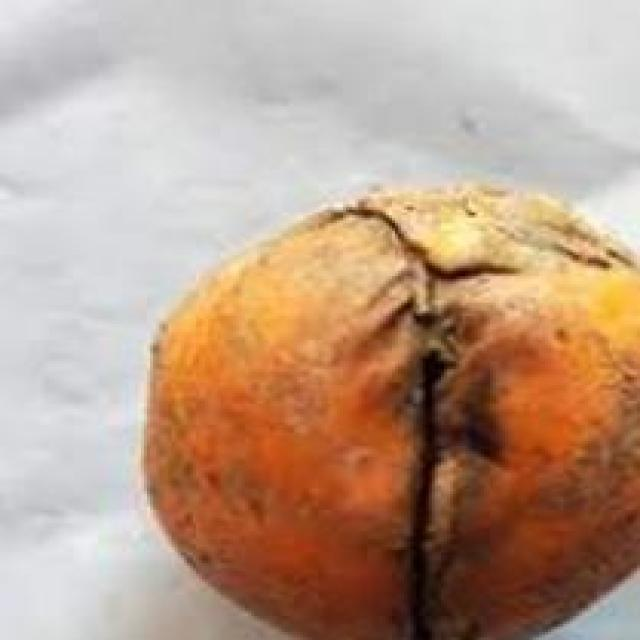damaged: (138, 183, 637, 637)
